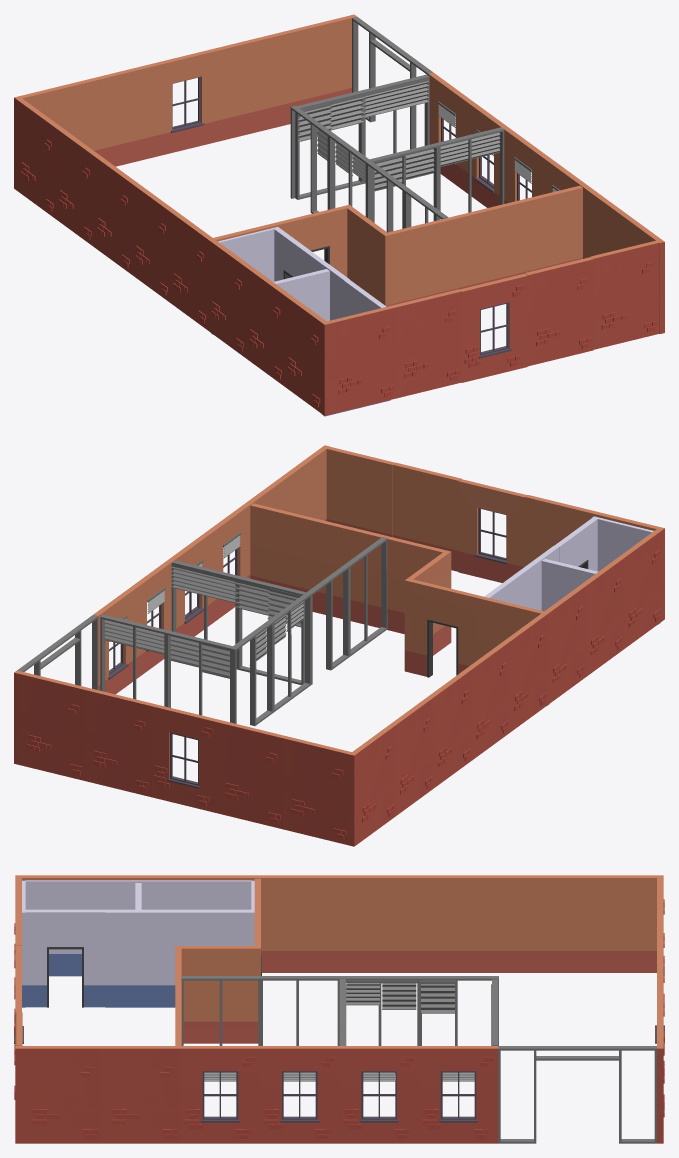
File: walls_doors2.fbx
The picture shows the model from 3 angles, top to bottom: view 1: azimuth 30°, elevation 25°; view 2: azimuth 150°, elevation 25°; view 3: azimuth 270°, elevation 25°; orthographic projection. The views are drawn at different scales.
Visible parts, largest first — view 1: wall4__13_, wall4__12_, wall4__1_, wall4__15_, wall4__14_, wall4__2_, wall_window4, wall_window4_1_4, wall4, wall2__2_, wall2__1_, wall2 (+39 smaller); view 2: wall4__1_, wall4, wall4__3_, wall4__2_, wall_window4, wall_window4_1_4, wall2, wall4__13_, wall2__1_, wall4__12_, wall_door2, wall4__6_ (+40 smaller); view 3: wall4__4_, wall4__5_, wall4__6_, wall4__7_, wall4__16_, wall4__17_, wall4__8_, wall2__3_, wall_window4_1, wall_window4_1_1, wall_window4_1_2, wall_window4_1_3 (+20 smaller).
Boxes of the visible parts, box(x1,y1,x2,y2) form: wall4__13_: box(524, 257, 593, 366); wall4__12_: box(590, 240, 659, 349); wall4__1_: box(217, 32, 285, 140); wall4__15_: box(327, 305, 395, 414); wall4__14_: box(393, 289, 461, 398); wall4__2_: box(85, 64, 154, 166); wall_window4: box(151, 48, 220, 157); wall_window4_1_4: box(459, 273, 527, 382); wall4: box(283, 16, 351, 124); wall2__2_: box(382, 218, 451, 306); wall2__1_: box(448, 201, 516, 290); wall2: box(514, 185, 582, 275); wall4__1_: box(85, 688, 153, 796); wall4: box(19, 671, 87, 780); wall4__3_: box(283, 736, 351, 845); wall4__2_: box(217, 720, 285, 829); wall_window4: box(151, 704, 219, 812); wall_window4_1_4: box(458, 479, 526, 582); wall2: box(250, 503, 318, 612); wall4__13_: box(393, 462, 461, 571); wall2__1_: box(316, 519, 384, 627); wall4__12_: box(326, 446, 395, 537); wall_door2: box(410, 579, 478, 677); wall4__6_: box(428, 668, 471, 788); wall4__4_: box(577, 875, 656, 972); wall4__5_: box(498, 875, 577, 972); wall4__6_: box(419, 875, 498, 972); wall4__7_: box(339, 875, 418, 972); wall4__16_: box(101, 1046, 180, 1143); wall4__17_: box(22, 1046, 101, 1143); wall4__8_: box(260, 875, 339, 972); wall2__3_: box(181, 946, 260, 1043); wall_window4_1: box(419, 1046, 498, 1143); wall_window4_1_1: box(339, 1046, 418, 1143); wall_window4_1_2: box(260, 1046, 339, 1143); wall_window4_1_3: box(180, 1046, 259, 1143).
Size of the model in its own units: 1096 by 290 by 1731.
